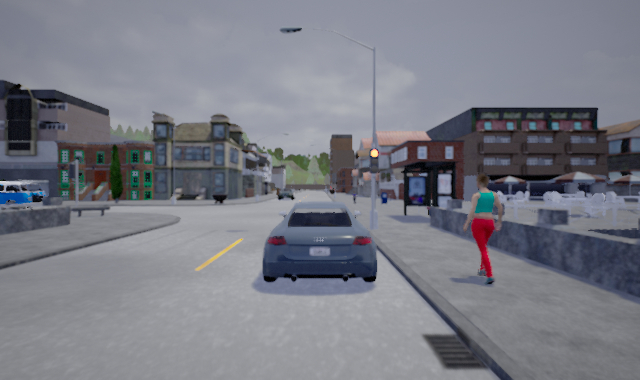pedestrian: (459, 173, 507, 286), (350, 189, 358, 204)
traffic_light: (370, 147, 380, 176)
vehicle: (261, 201, 379, 284), (1, 181, 52, 212), (277, 188, 295, 201)
